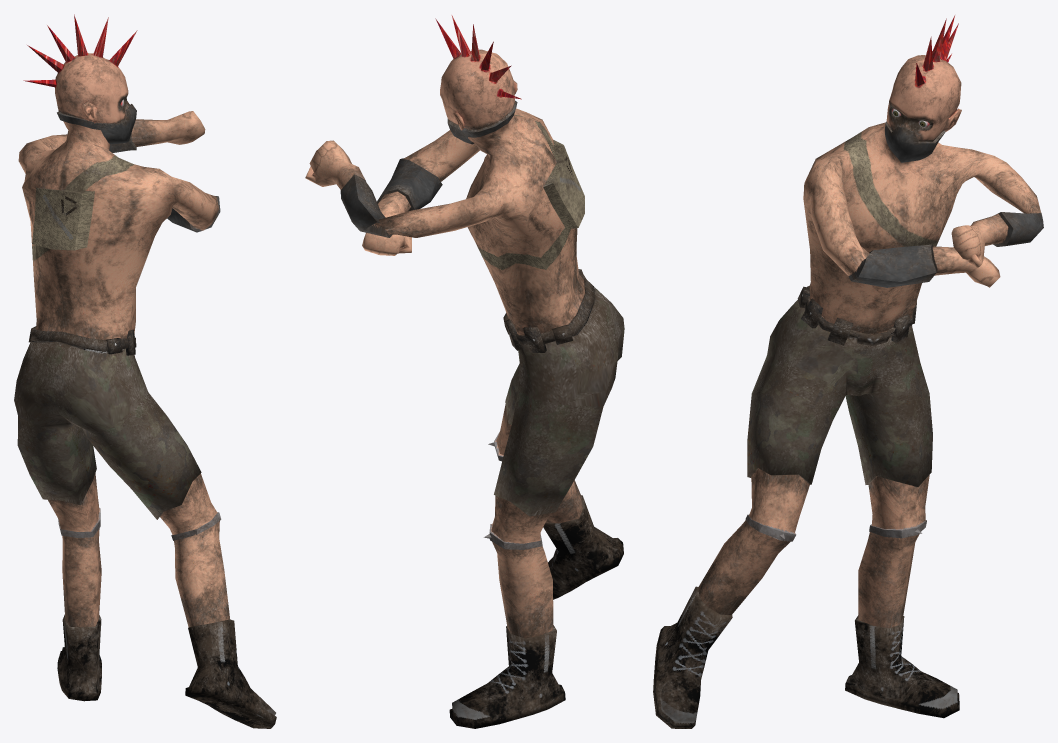
The model's file is Anim_arma_c_npc2.0024.obj.
3 views of the same model, side by side, from view 1: azimuth 30°, elevation 25°; view 2: azimuth 150°, elevation 25°; view 3: azimuth 270°, elevation 25° (orthographic). The views are drawn at different scales.
Visible parts, largest first — view 1: polySurface1; view 2: polySurface1; view 3: polySurface1.
Part boxes in pixels (box(x1,y1,x2,y2)): polySurface1: box(14, 14, 276, 728); polySurface1: box(305, 15, 624, 728); polySurface1: box(653, 15, 1043, 728).
Size of the model in its own units: 3.7 by 9.91 by 5.1.
